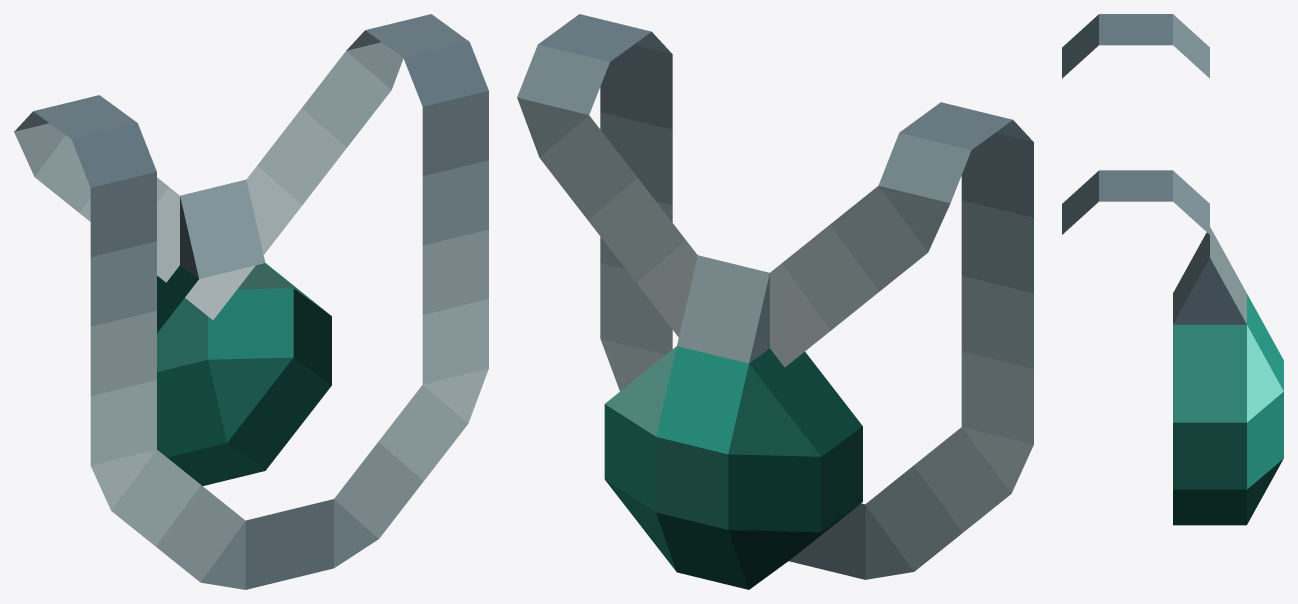
Rendered from amulet_enderguard.obj.
3 views of the same model, side by side, from view 1: azimuth 30°, elevation 25°; view 2: azimuth 150°, elevation 25°; view 3: azimuth 270°, elevation 25° (orthographic). The views are drawn at different scales.
Visible parts, largest first — view 1: PENDANT_BASE_SILVER_INVENTORY_Cube.069, PENDANT_DECO_ENDERGUARD_Cube.012; view 2: PENDANT_BASE_SILVER_INVENTORY_Cube.069, PENDANT_DECO_ENDERGUARD_Cube.012; view 3: PENDANT_DECO_ENDERGUARD_Cube.012, PENDANT_BASE_SILVER_INVENTORY_Cube.069.
Part boxes in pixels (<box>): PENDANT_BASE_SILVER_INVENTORY_Cube.069: <box>14,14,488,589</box>; PENDANT_DECO_ENDERGUARD_Cube.012: <box>157,179,331,485</box>; PENDANT_BASE_SILVER_INVENTORY_Cube.069: <box>517,14,1033,579</box>; PENDANT_DECO_ENDERGUARD_Cube.012: <box>604,255,862,589</box>; PENDANT_DECO_ENDERGUARD_Cube.012: <box>1173,227,1283,525</box>; PENDANT_BASE_SILVER_INVENTORY_Cube.069: <box>1062,14,1209,234</box>.
Bounding box in the file's own units: 0.3754 × 0.4273 × 0.1875.
